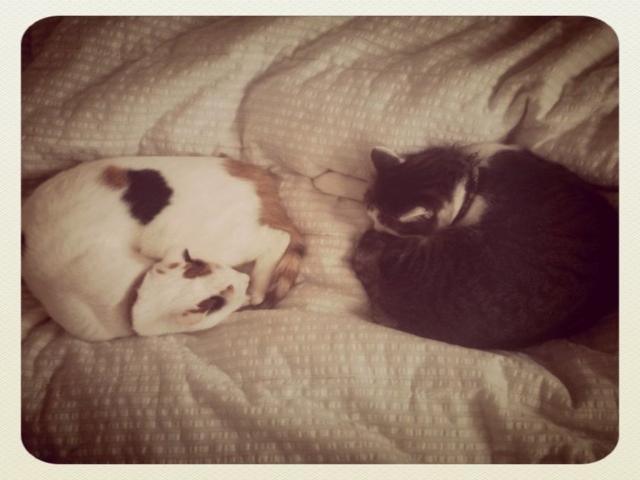Cat: (352, 147, 622, 353), (22, 154, 311, 343)
